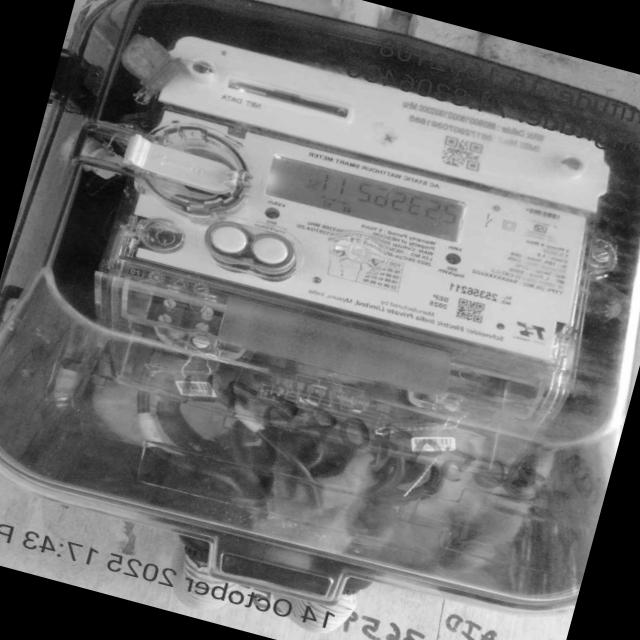meter: (113, 27, 612, 370)
